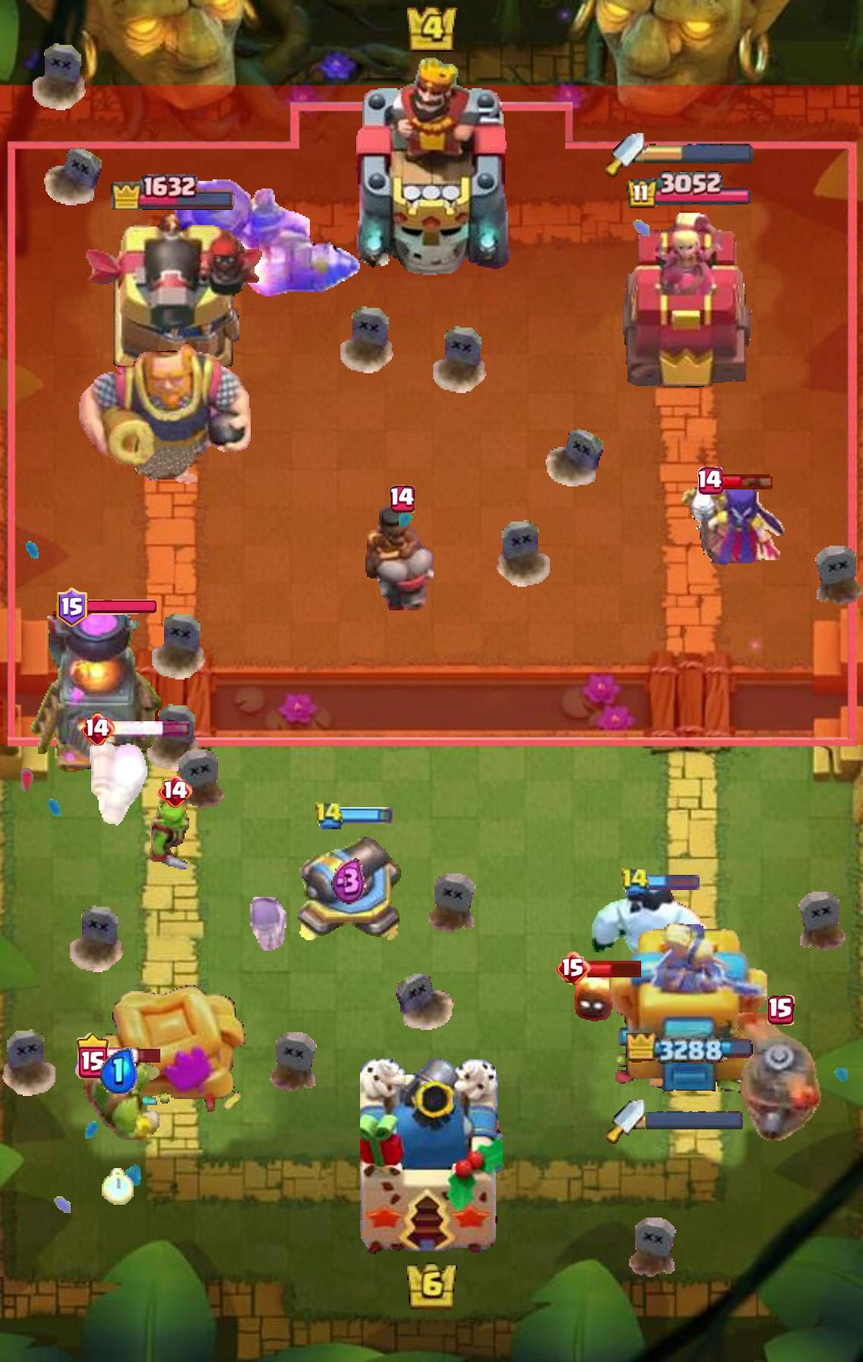bar: (111, 721, 191, 737), (587, 958, 643, 978), (84, 600, 156, 615), (106, 1047, 163, 1065), (720, 472, 775, 490)
bar-level: (75, 1033, 111, 1080), (55, 588, 88, 627), (157, 773, 193, 808), (555, 952, 591, 985), (81, 711, 115, 745), (767, 995, 795, 1025), (697, 466, 723, 494), (390, 485, 416, 513)
